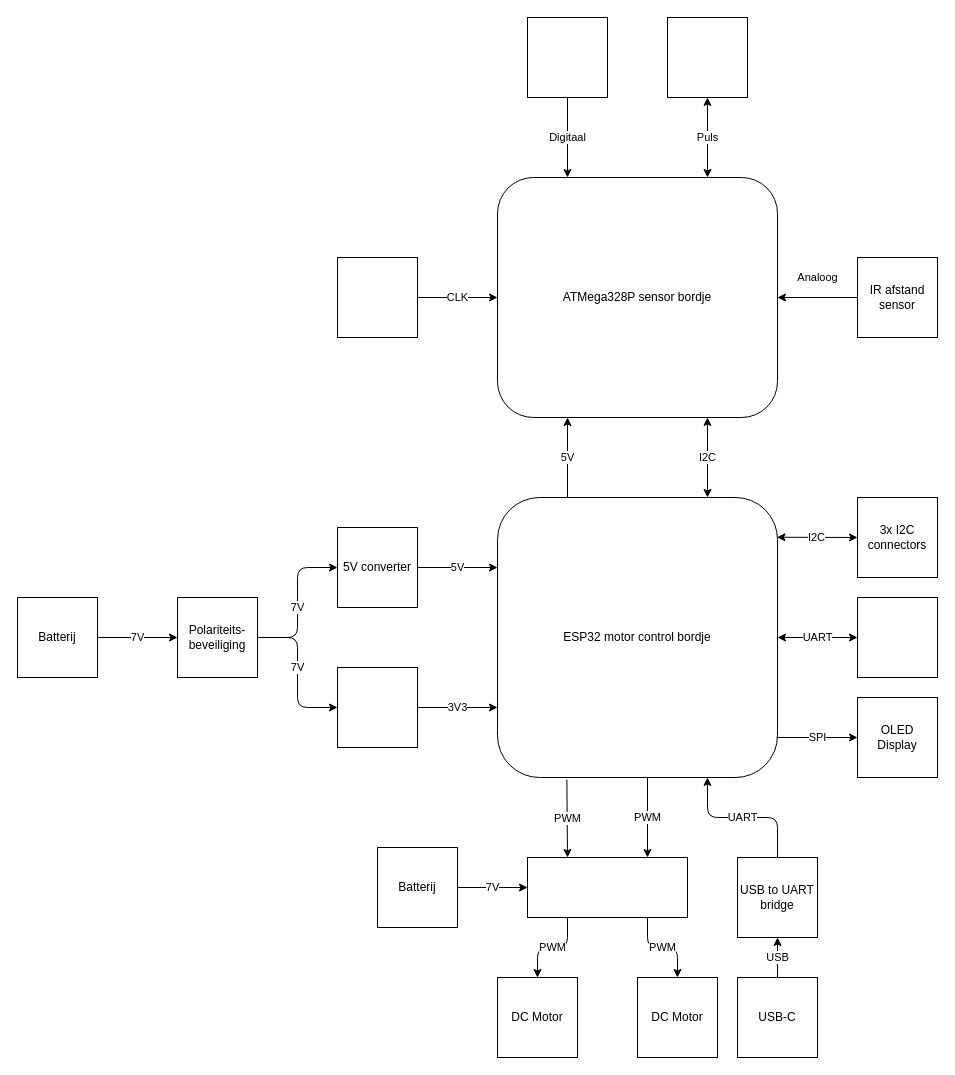
This 955x1075 diagram has some shape labels left out. Each missing label, with the centre of its shape:
"2x UART connectors" goes at [897,637].
"3V3 converter" goes at [377,707].
"Crystal oscillator" goes at [377,297].
"Dual motor driver" goes at [607,887].
"Lijnvolger" goes at [567,57].
"Ultrasonic afstand sensor" goes at [707,57].
